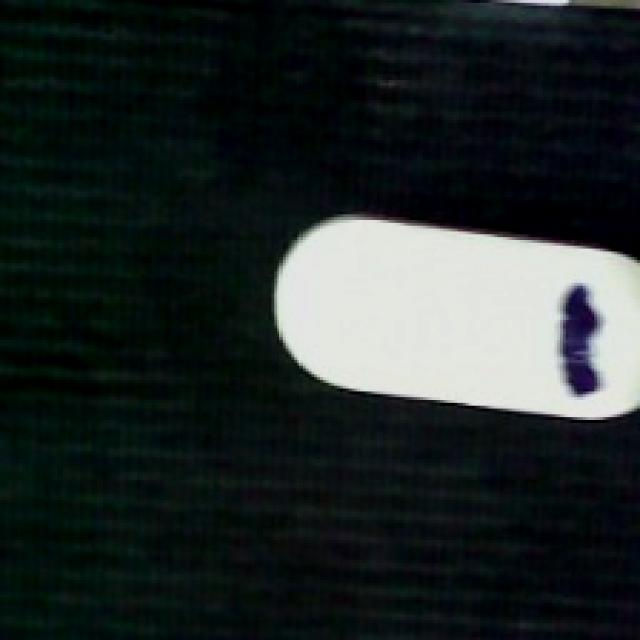defected: (269, 215, 640, 426)
